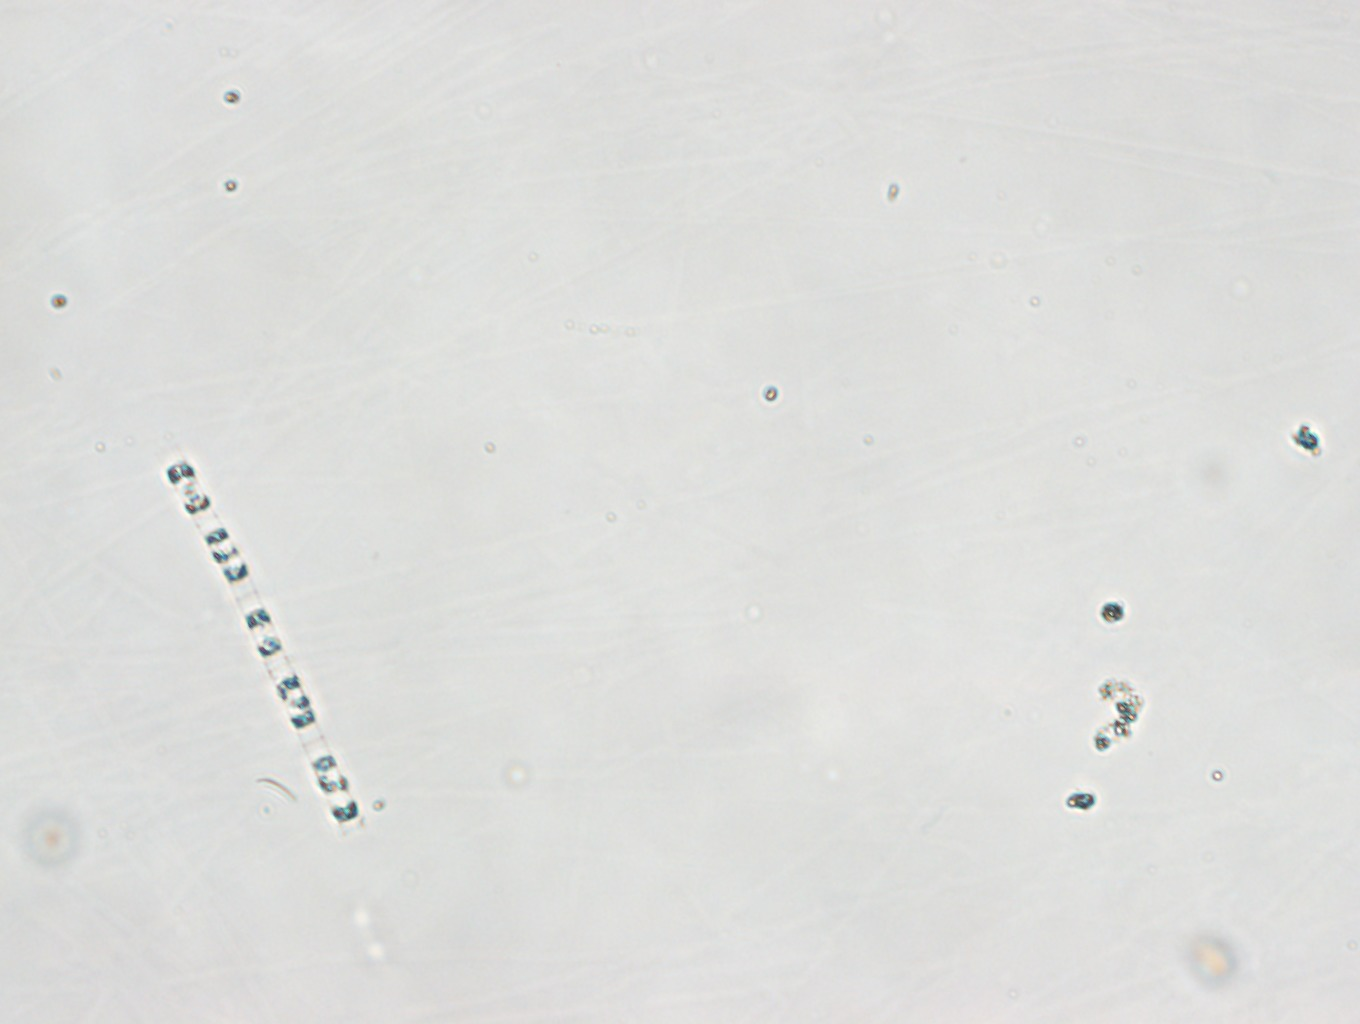skeletonema: (156, 445, 367, 829)
